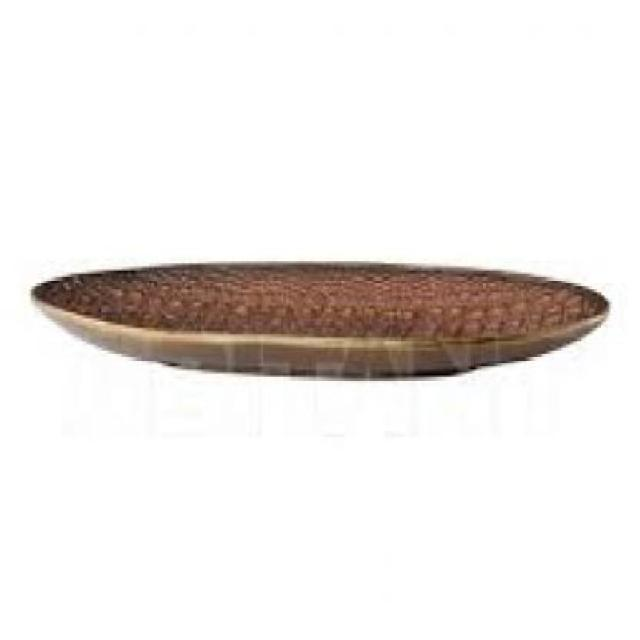kaca: (28, 257, 608, 374)
